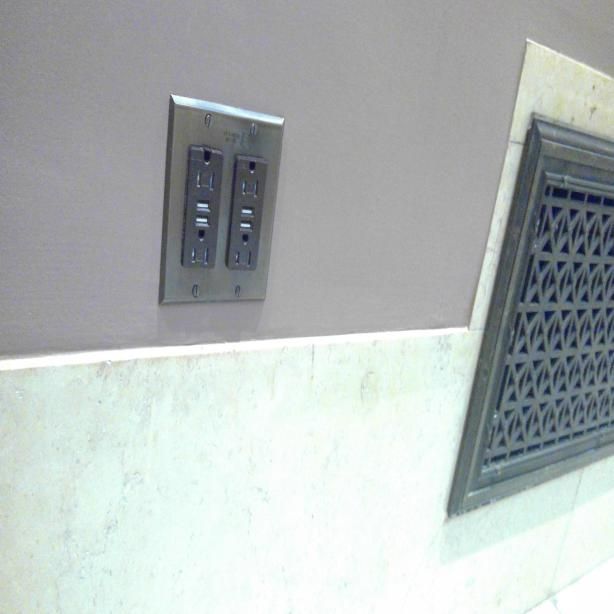typeb: (235, 152, 267, 204), (190, 145, 220, 197), (229, 229, 257, 278), (186, 226, 215, 272)
